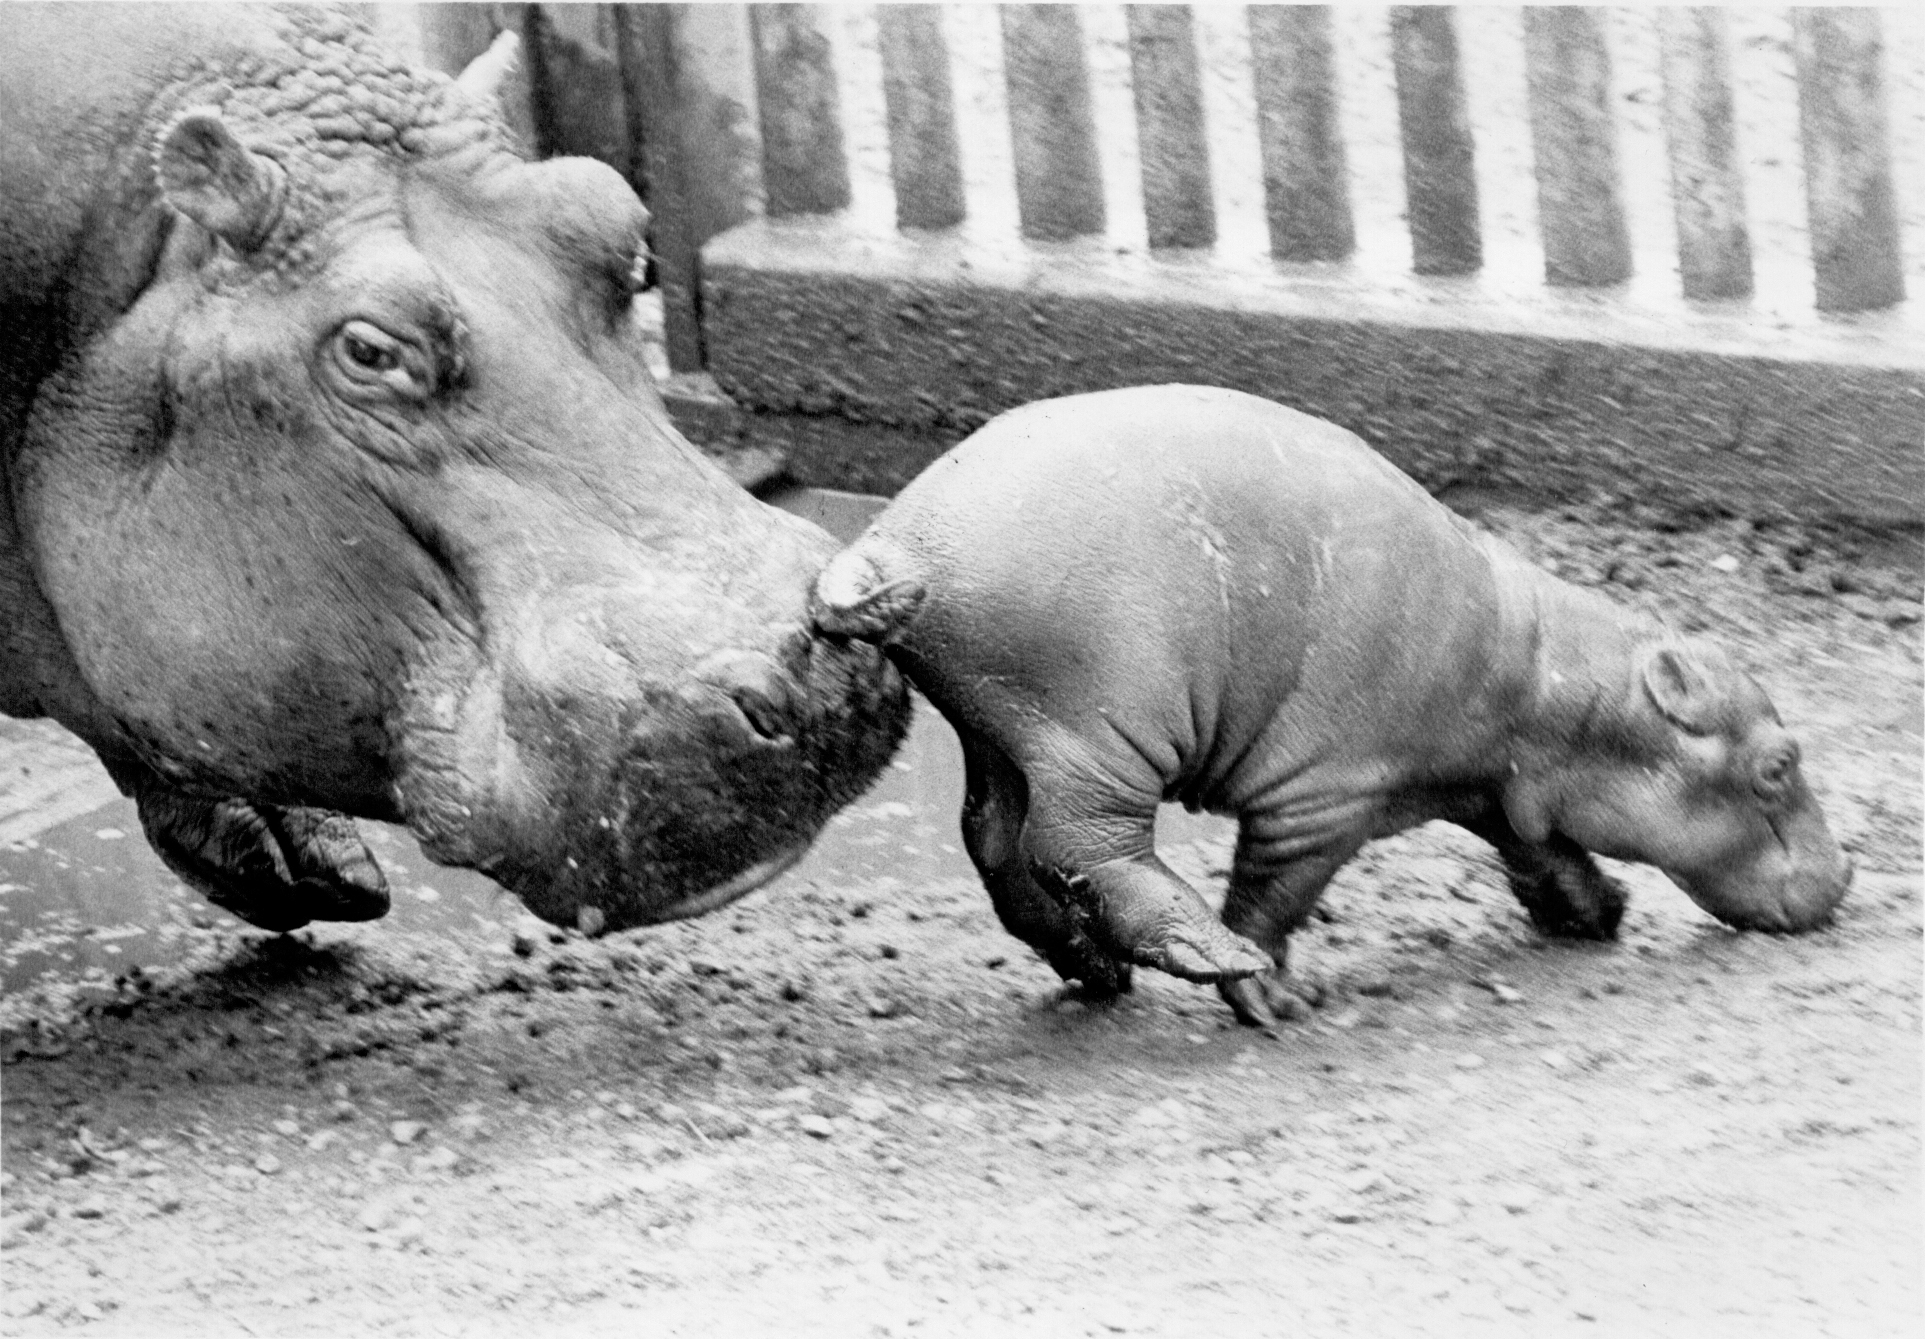Hippopotamus: (6, 10, 916, 923), (832, 386, 1852, 1007)
